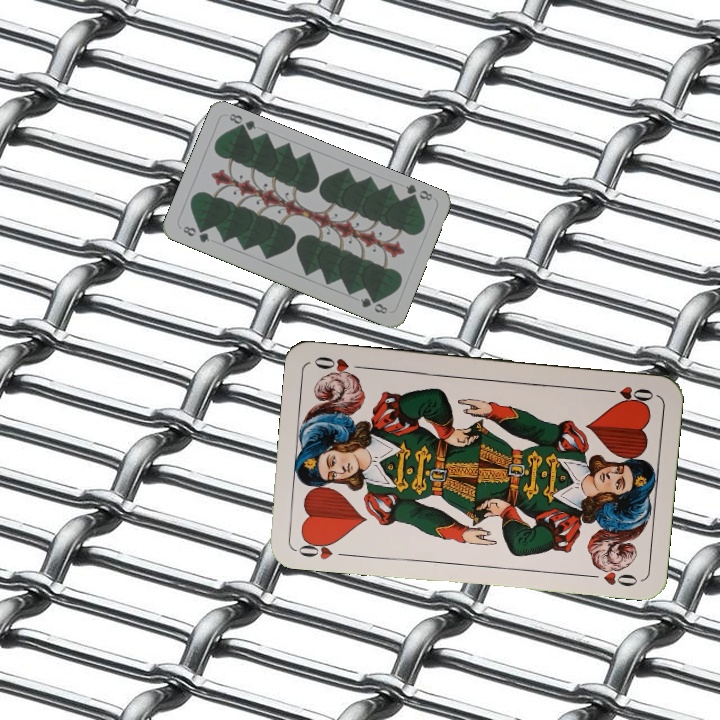G8: (401, 180, 435, 205), (179, 222, 212, 245)
HO: (292, 534, 352, 562), (598, 382, 656, 405)
